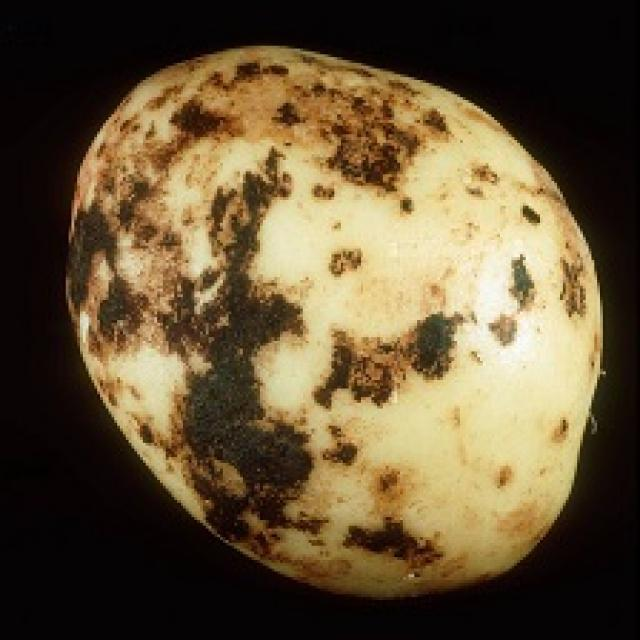black_scurf: (52, 36, 612, 612)
